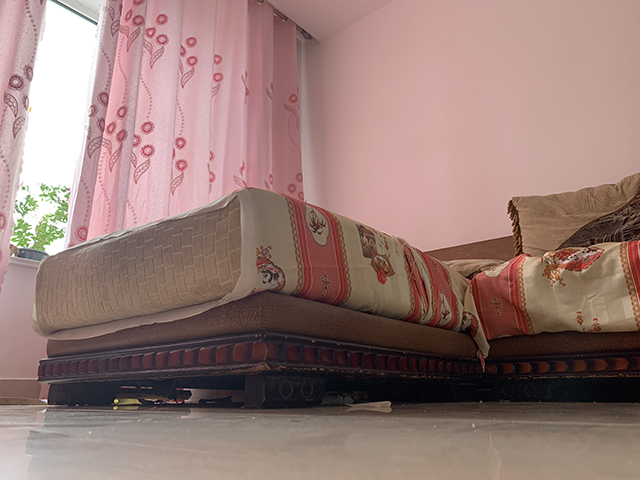curtain: (73, 3, 302, 224)
sofa: (31, 184, 475, 408), (483, 180, 639, 395)
